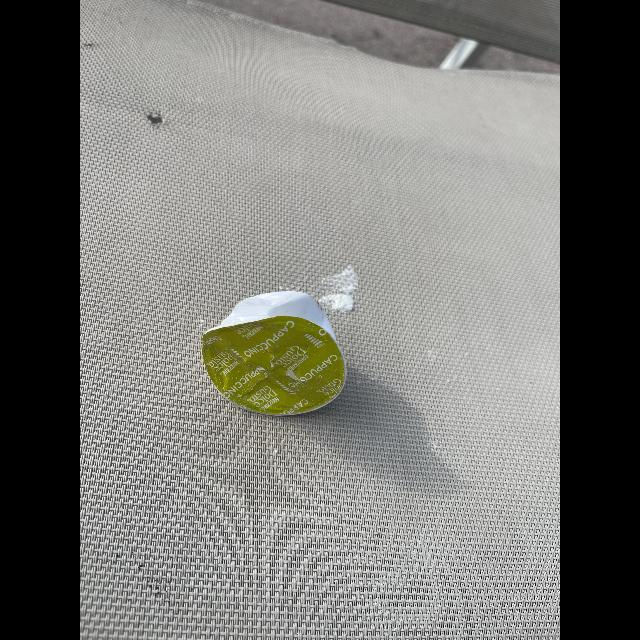damaged_capsule: (196, 288, 368, 418)
